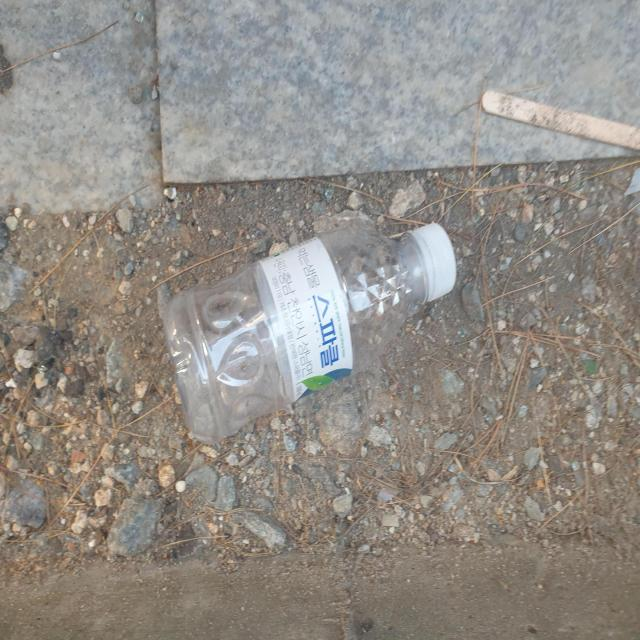plastic: (163, 223, 457, 442)
